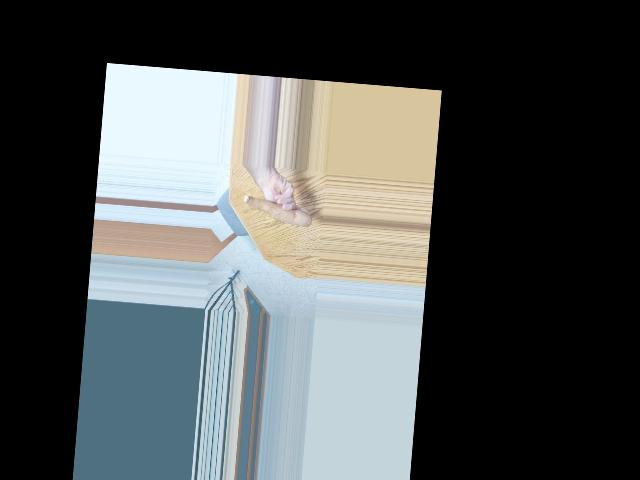sweet_potato: (241, 192, 314, 228)
